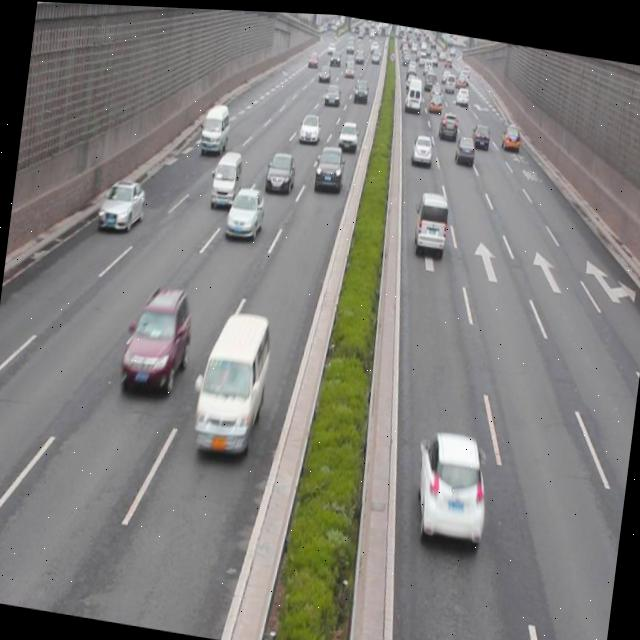car: (408, 424, 491, 549), (118, 279, 195, 397), (95, 175, 147, 235), (224, 184, 266, 238), (312, 140, 344, 190), (263, 147, 296, 194), (410, 127, 434, 164)
truck: (188, 303, 272, 457), (411, 183, 449, 255), (210, 145, 242, 206), (198, 100, 232, 153)
